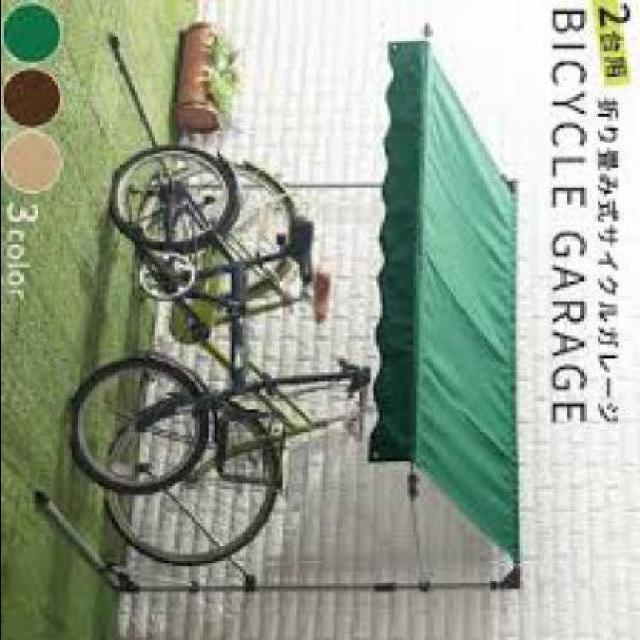bicycle: (31, 101, 379, 567)
